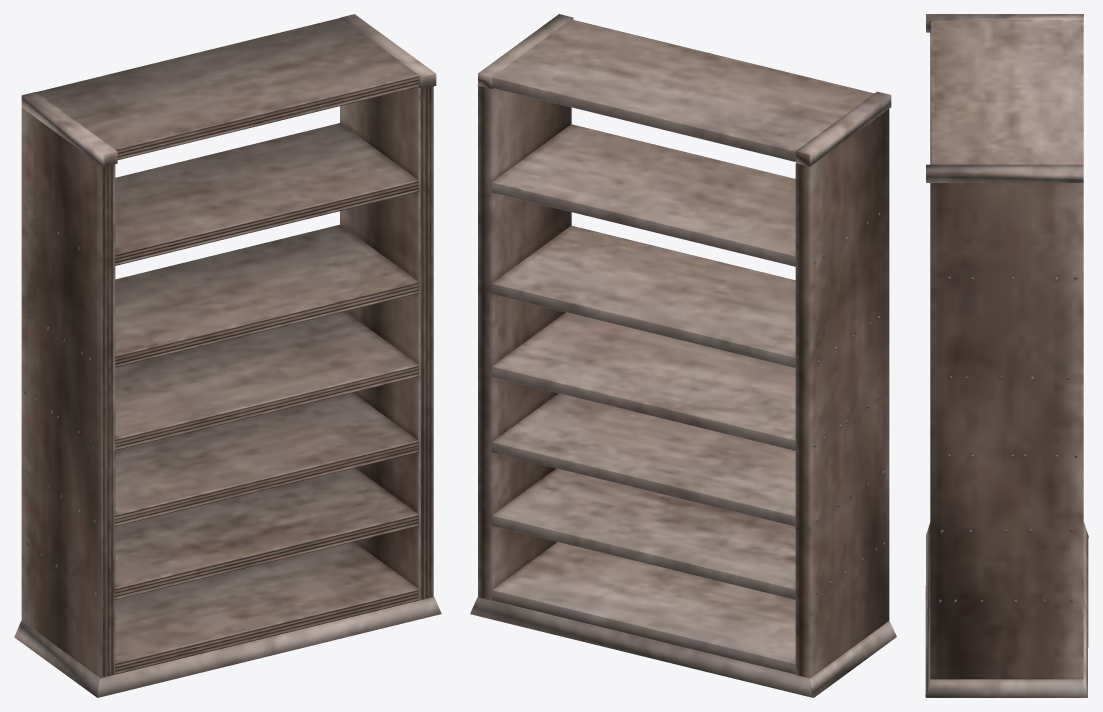
File: bookshelf_lo.glb
3 views of the same model, side by side, from view 1: azimuth 30°, elevation 25°; view 2: azimuth 150°, elevation 25°; view 3: azimuth 270°, elevation 25° (orthographic). The views are drawn at different scales.
Visible parts, largest first — view 1: wooden_bookshelf_worn; view 2: wooden_bookshelf_worn; view 3: wooden_bookshelf_worn.
Boxes of the visible parts, x1,y1,x2,y2 form: wooden_bookshelf_worn: [14, 14, 441, 697]; wooden_bookshelf_worn: [470, 14, 896, 697]; wooden_bookshelf_worn: [925, 14, 1088, 697].
Bounding box in the file's own units: 1.37 × 2.06 × 0.5814.
Materials: 1 (1 with a texture image).
